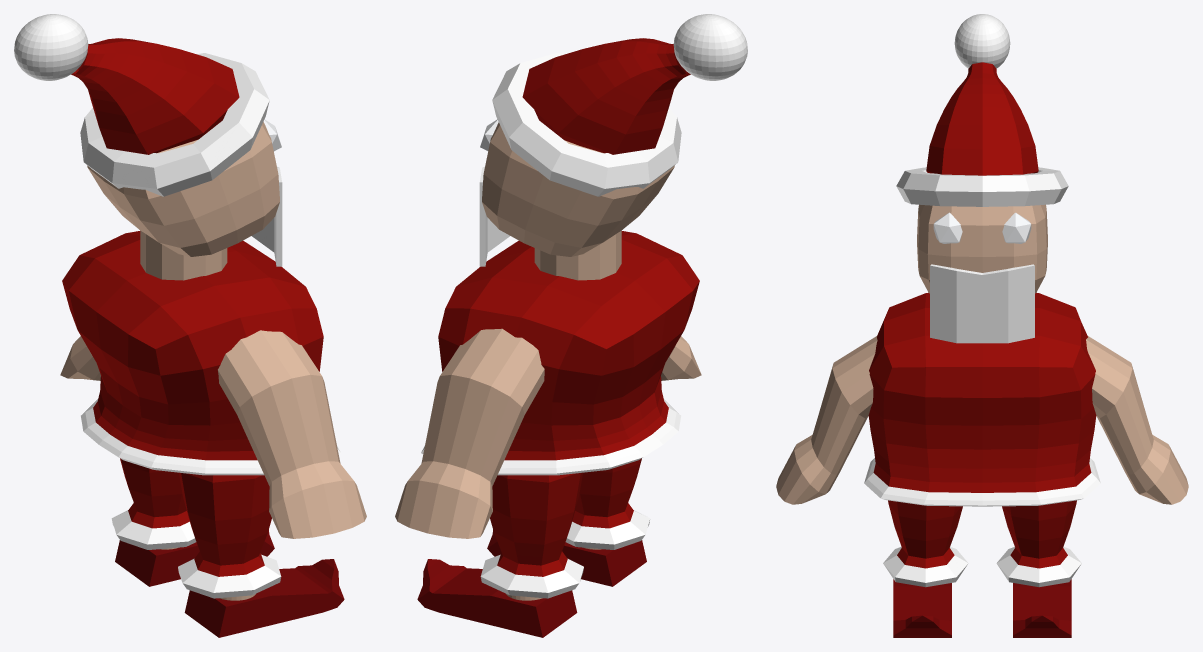
Rendered from santab.glb.
3 renders of one model, left to right at view 1: azimuth 30°, elevation 25°; view 2: azimuth 150°, elevation 25°; view 3: azimuth 270°, elevation 25°, orthographic. The views are drawn at different scales.
Parts seen in each view (by area): view 1: Cube.002, Cylinder.002, Cube.001, Cube.003, Cube, Torus, Cylinder.001, Cylinder, Plane; view 2: Cube.002, Cylinder.002, Cube.001, Cube.003, Cube, Torus, Cylinder.001, Cylinder, Plane; view 3: Cube.002, Cylinder.002, Cube.001, Cube.003, Plane, Cube, Cylinder.001, Torus, Icosphere.
Boxes of the visible parts, left/top/right/bottom form: Cube.002: left=62, top=231, right=340, bottom=475; Cylinder.002: left=60, top=330, right=366, bottom=538; Cube.001: left=14, top=14, right=239, bottom=154; Cube.003: left=111, top=458, right=281, bottom=598; Cube: left=87, top=122, right=279, bottom=256; Torus: left=80, top=53, right=269, bottom=196; Cylinder.001: left=115, top=530, right=344, bottom=637; Cylinder: left=140, top=230, right=227, bottom=280; Plane: left=252, top=166, right=282, bottom=266; Cube.002: left=421, top=231, right=699, bottom=475; Cylinder.002: left=395, top=328, right=701, bottom=538; Cube.001: left=522, top=14, right=747, bottom=154; Cube.003: left=480, top=458, right=650, bottom=598; Cube: left=482, top=122, right=674, bottom=256; Torus: left=492, top=53, right=681, bottom=196; Cylinder.001: left=417, top=530, right=646, bottom=637; Cylinder: left=534, top=230, right=621, bottom=280; Plane: left=479, top=166, right=509, bottom=266; Cube.002: left=864, top=292, right=1100, bottom=506; Cylinder.002: left=776, top=336, right=1188, bottom=504; Cube.001: left=926, top=14, right=1038, bottom=175; Cube.003: left=883, top=500, right=1081, bottom=587; Plane: left=930, top=264, right=1034, bottom=343; Cube: left=917, top=204, right=1047, bottom=293; Cylinder.001: left=893, top=579, right=1071, bottom=637; Torus: left=896, top=167, right=1068, bottom=206; Icosphere: left=933, top=212, right=1031, bottom=243.
Bounding box in the file's own units: 1.33 × 2.76 × 1.97.
